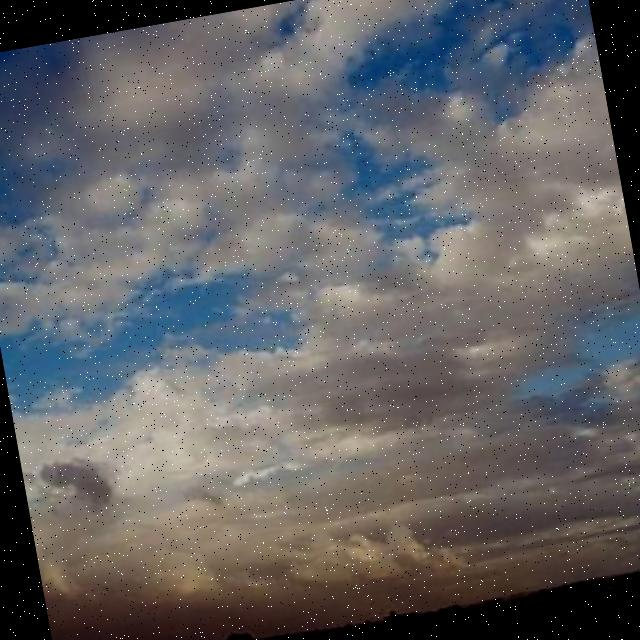Sc: (1, 1, 640, 560)
